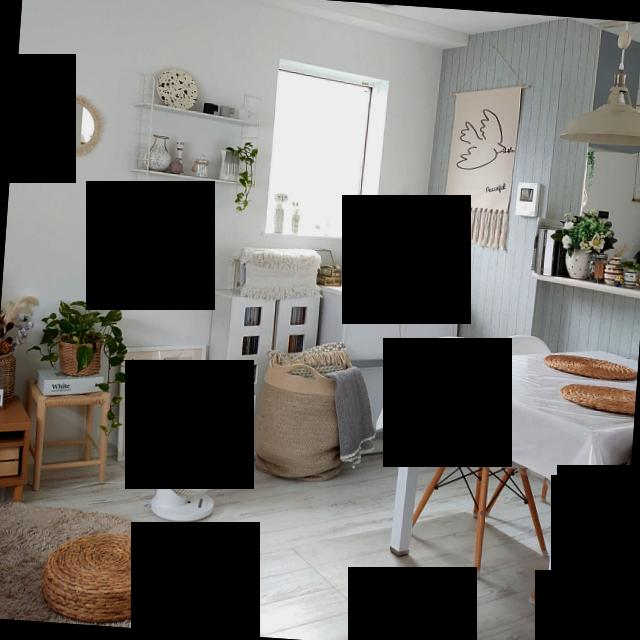white desk: (370, 324, 639, 640)
